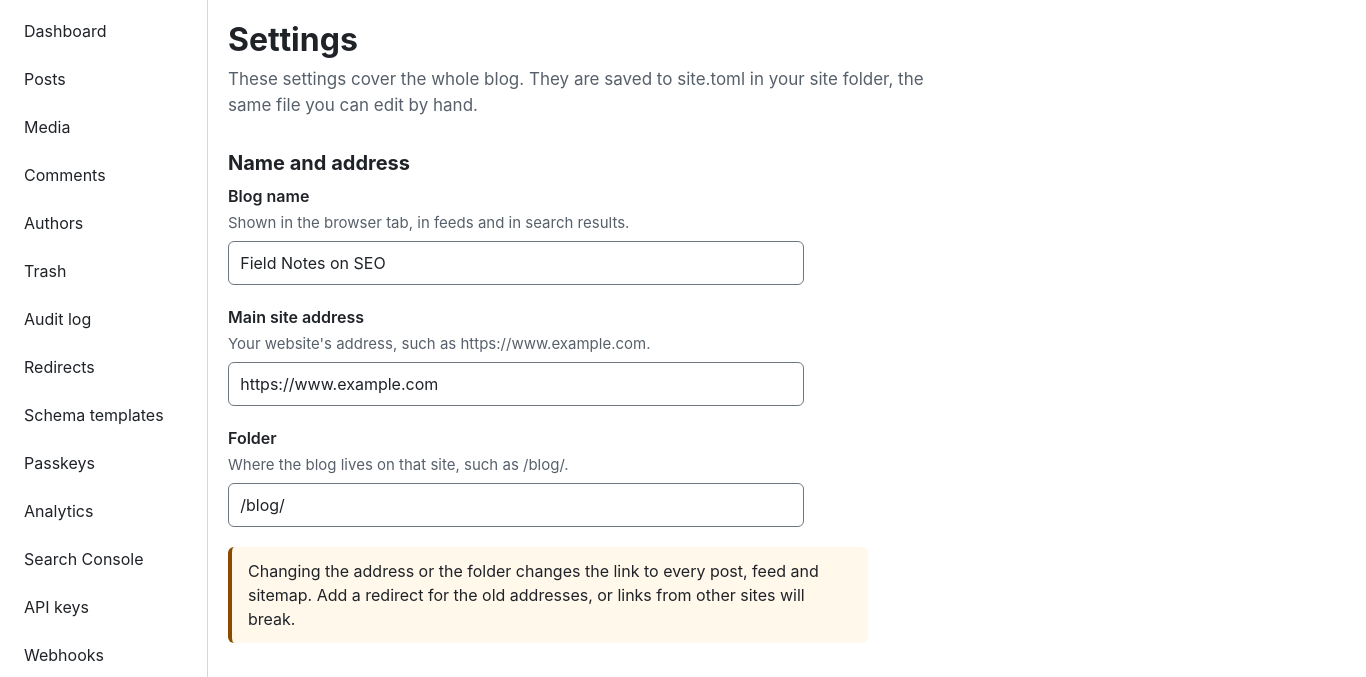
Scenario: the Settings screen › saves only the changed name, and says a restart applies it
Replace the text in the field labelled "Blog name" with "Field Notes": [516, 263] box [228, 241, 804, 285]
(page scrolled)
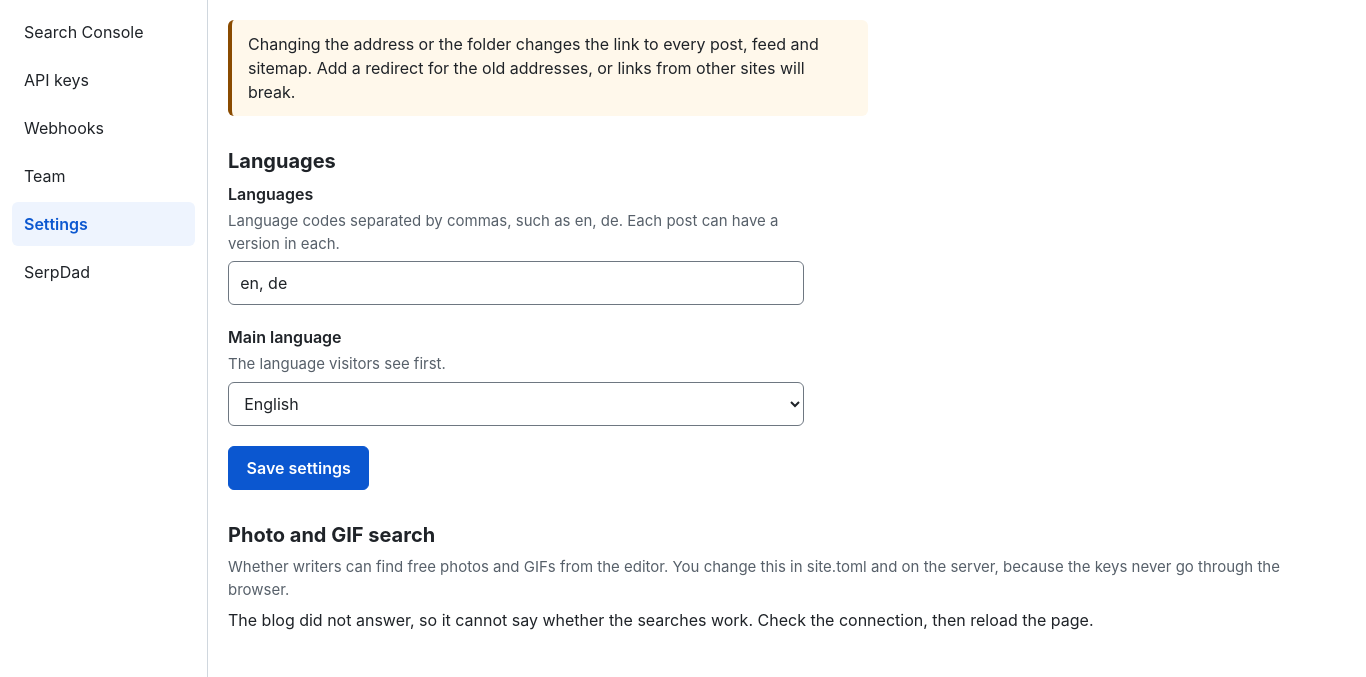
Click the button "Save settings": [299, 468] box [228, 446, 369, 490]
(page scrolled)
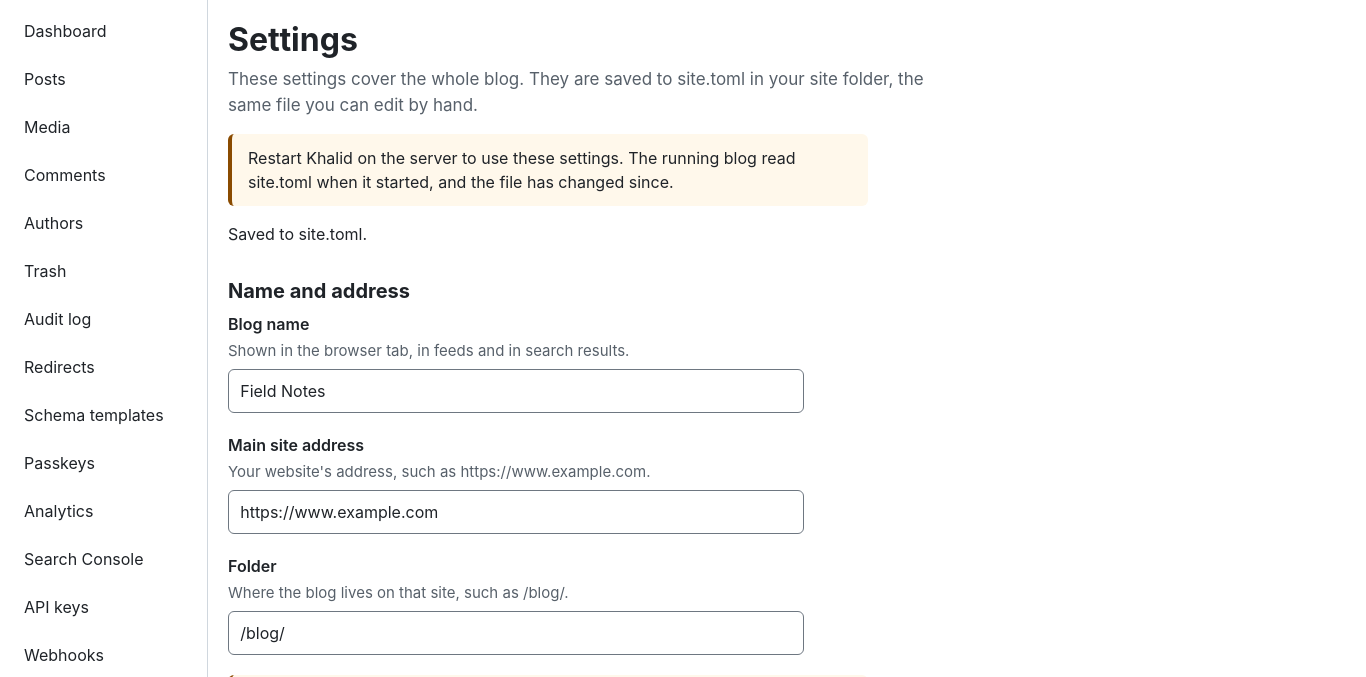
Expected: the text "Saved to site.toml." is shown, [228, 224, 367, 244]
Expected: the text "Restart Khalid on the server to use these settings. The running blog read site.toml when it started, and the file has ch" is shown, [248, 148, 795, 192]
